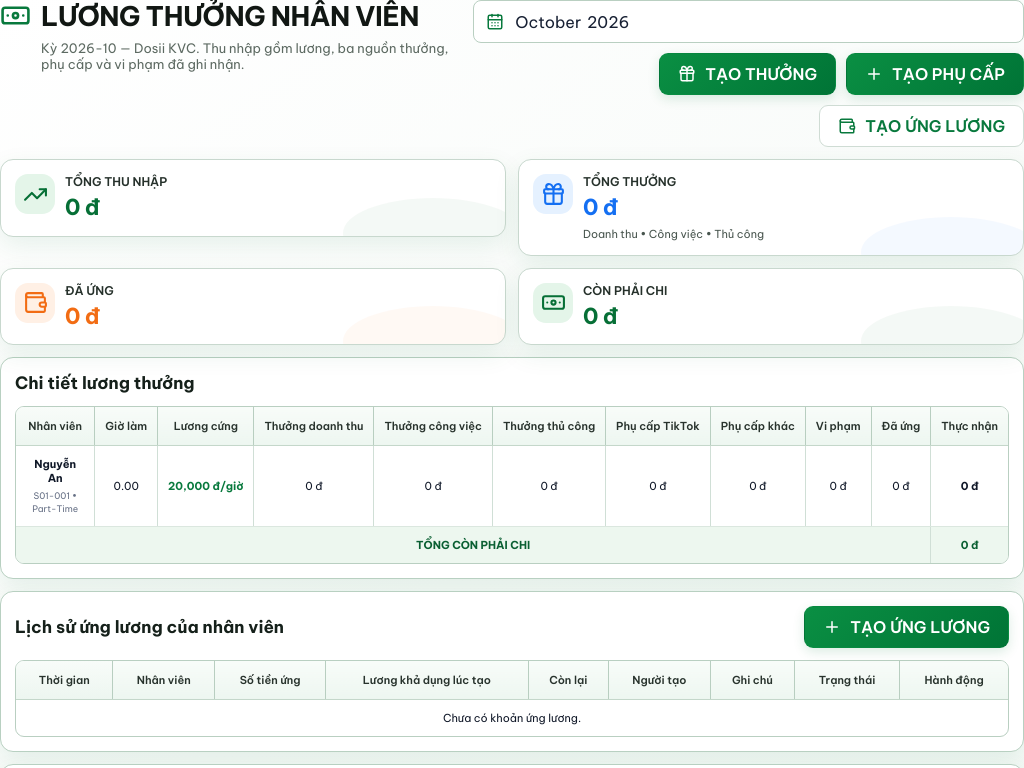
Test: store order, attendance, and payroll summaries › creates TẠO THƯỞNG once with a stable idempotency key while saving
Click the button "TẠO THƯỞNG" at (748, 74), box [659,53,836,95]
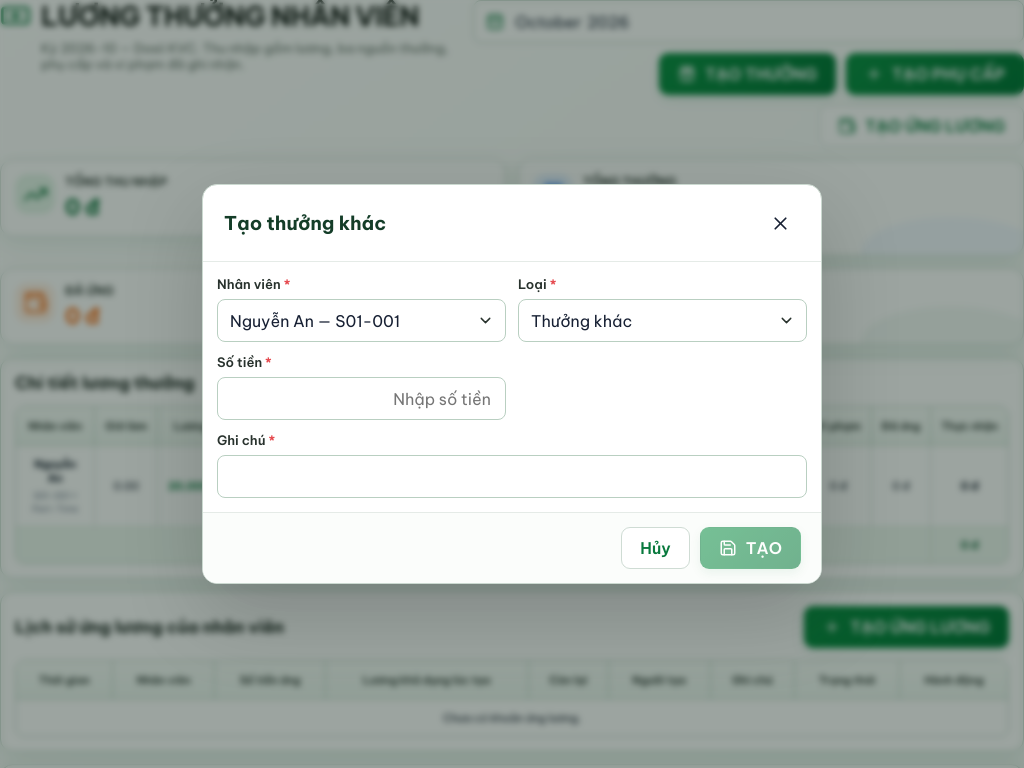
Expected: the button "TẠO" is disabled, [700,527,801,569]
Type "125000" into the field with placeholder "Nhập số tiền" at (362, 398), box [230,378,493,419]
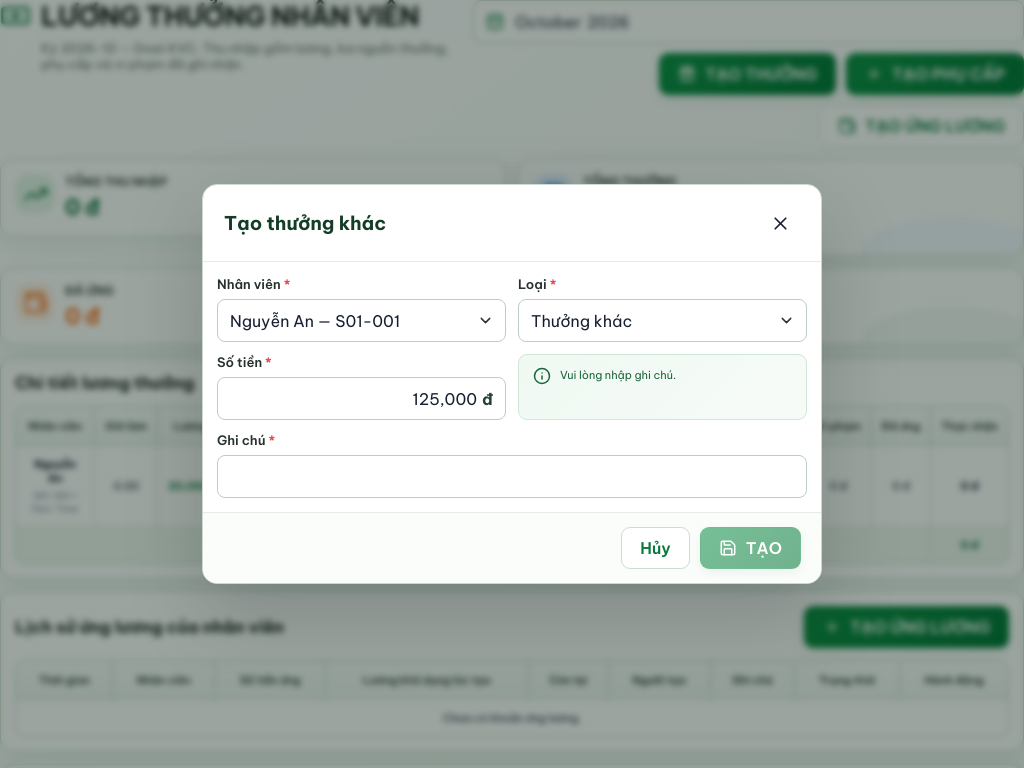
Expected: the button "TẠO" is disabled, [700,527,801,569]
Type "Thưởng theo kết quả tháng" into the field labelled "Ghi chú *" at (512, 476), box [230,456,794,497]
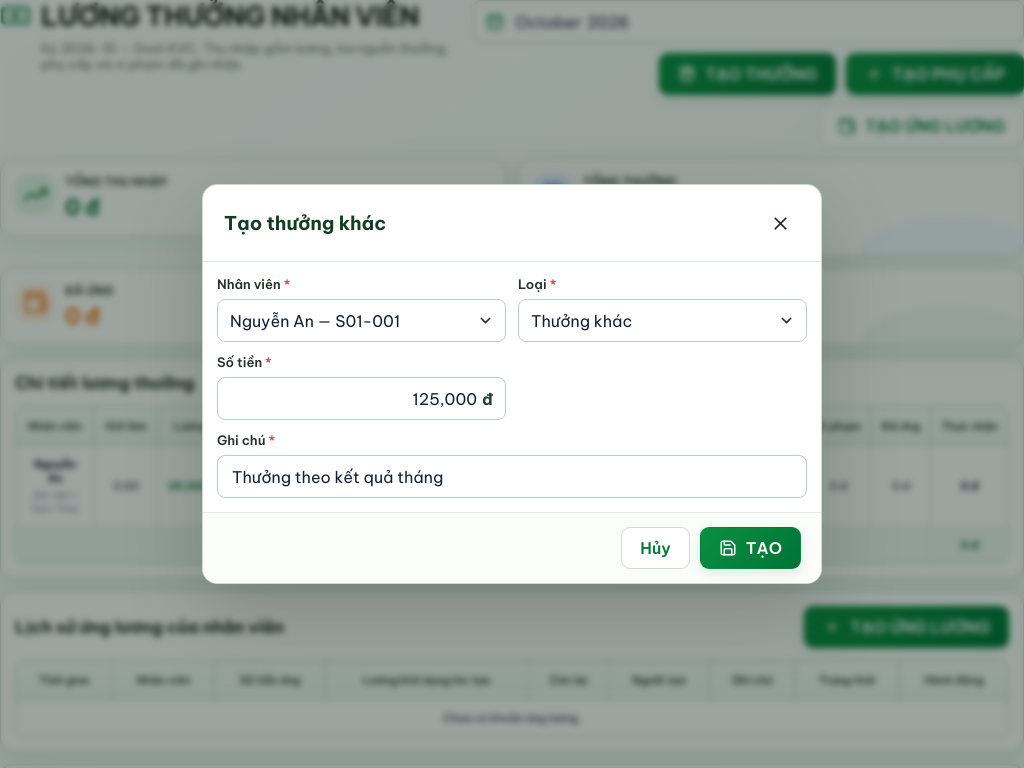
Expected: the button "TẠO" is enabled
Click the button "TẠO" at (750, 548), box [700,527,801,569]
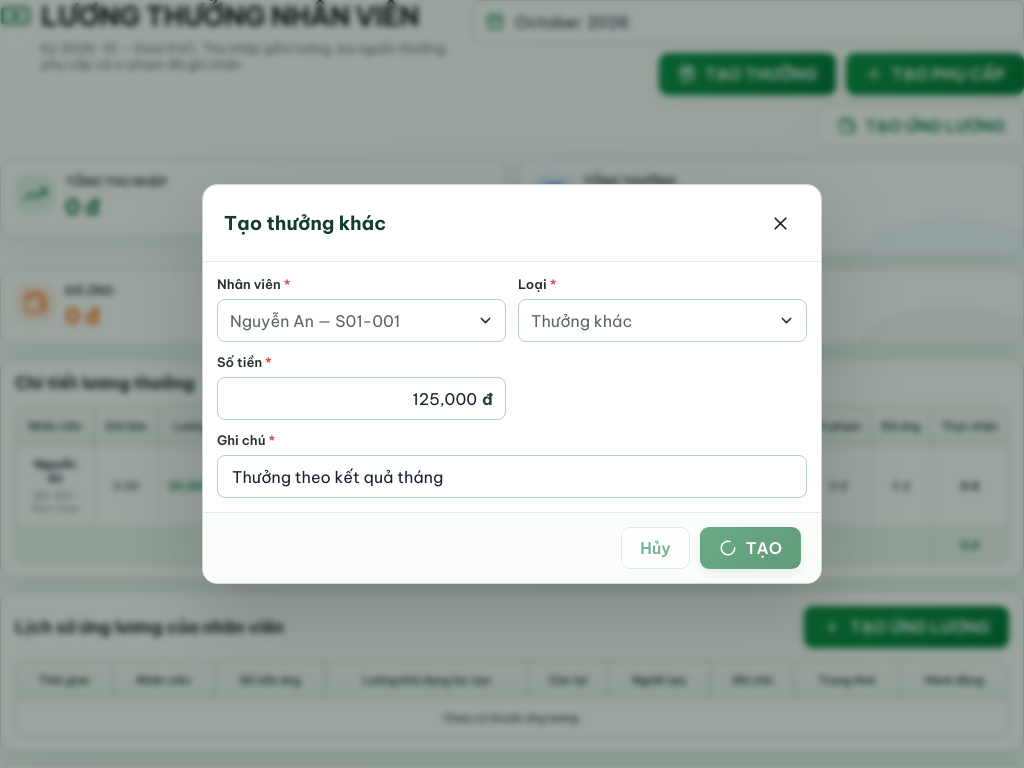
Expected: the button "TẠO" is disabled
Click the button "TẠO" at (750, 548), box [700,527,801,569]
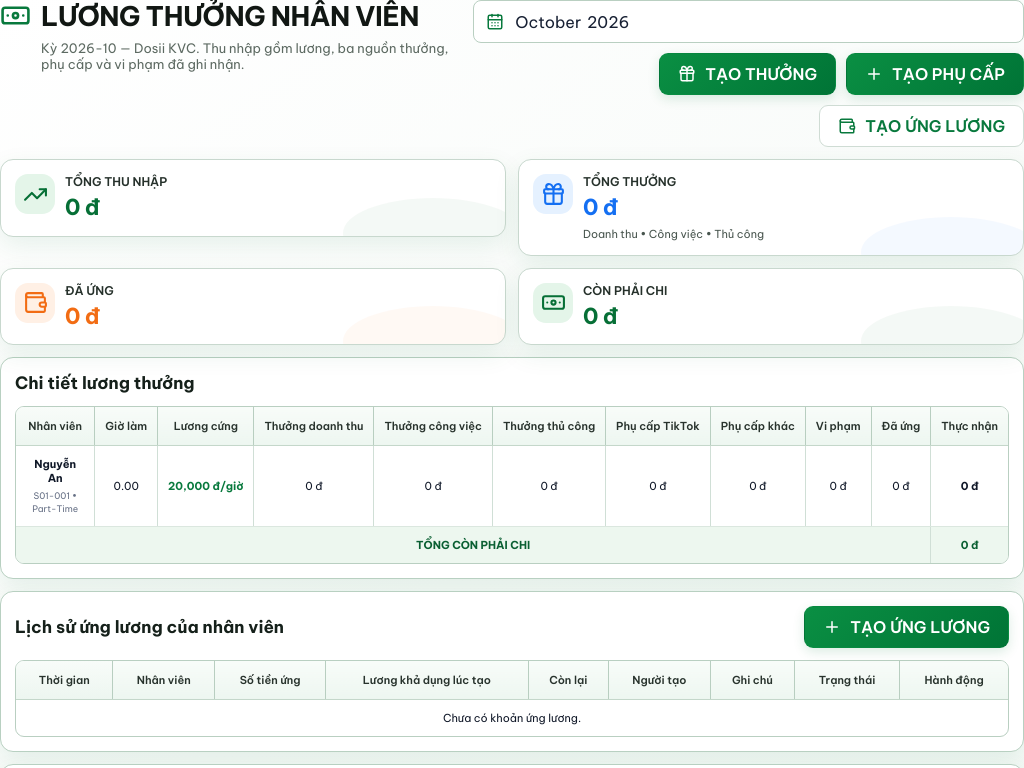
Expected: the dialog is gone
